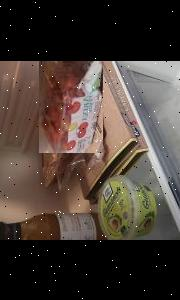Guacamole: (99, 173, 158, 240)
Tomate: (39, 60, 103, 152)
